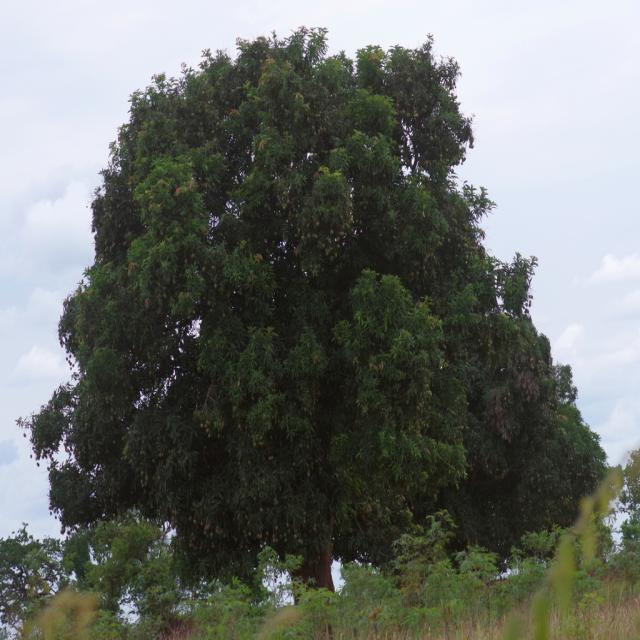Mango-Tree: (53, 33, 598, 590)
